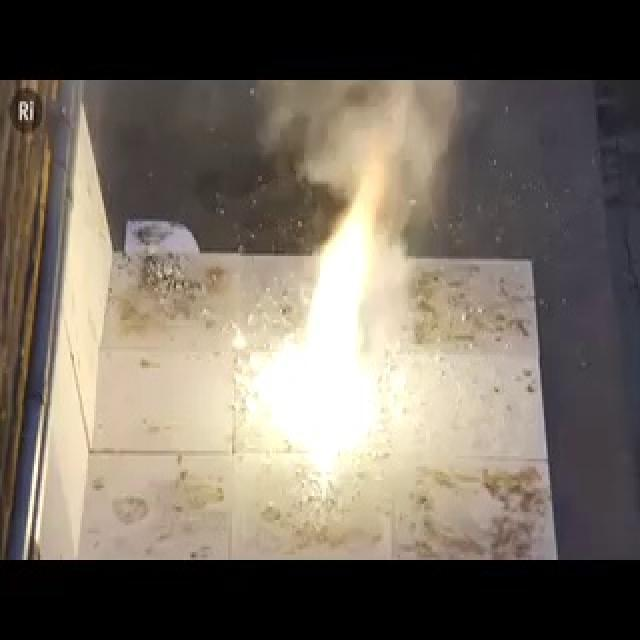Fire: (243, 227, 385, 480)
Smoke: (263, 82, 482, 224)
